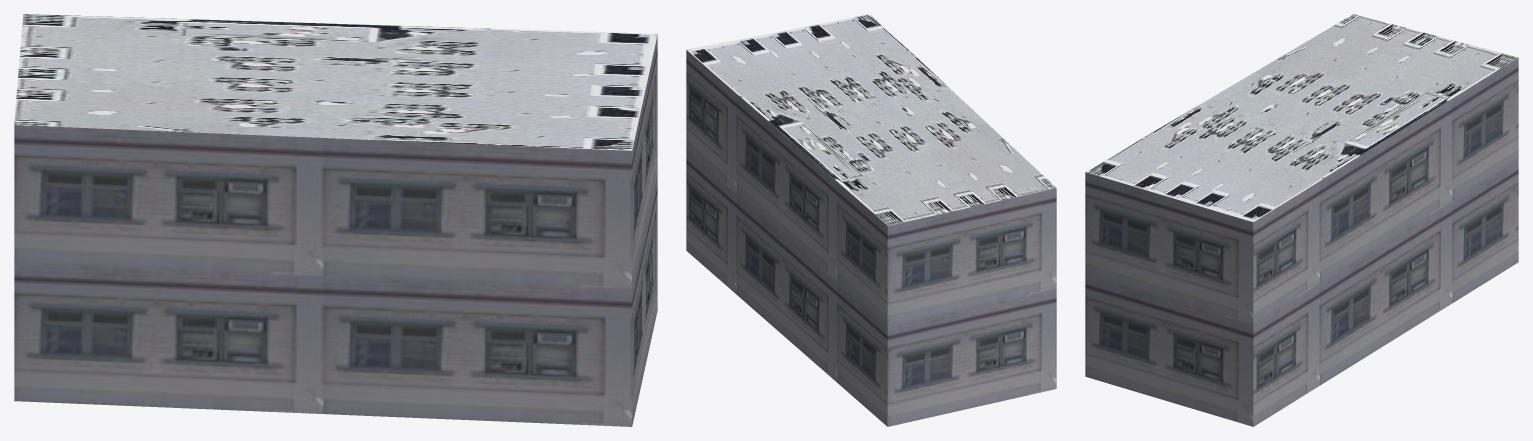
File: ResTex__1074.fbx
3 views of the same model, side by side, from view 1: azimuth 30°, elevation 25°; view 2: azimuth 150°, elevation 25°; view 3: azimuth 270°, elevation 25° (orthographic). The views are drawn at different scales.
Parts seen in each view (by area): view 1: CityEngineMaterial_1_m, CityEngineMaterial_2_m; view 2: CityEngineMaterial_1_m, CityEngineMaterial_2_m; view 3: CityEngineMaterial_1_m, CityEngineMaterial_2_m.
Boxes of the visible parts, x1,y1,x2,y2 form: CityEngineMaterial_1_m: (14,35,657,426); CityEngineMaterial_2_m: (14,14,657,150); CityEngineMaterial_1_m: (686,50,1056,426); CityEngineMaterial_2_m: (686,14,1055,225); CityEngineMaterial_1_m: (1085,58,1518,426); CityEngineMaterial_2_m: (1086,14,1518,222).
Size of the model in its own units: 13.1 by 6 by 11.52.
2 materials, 2 textured.
